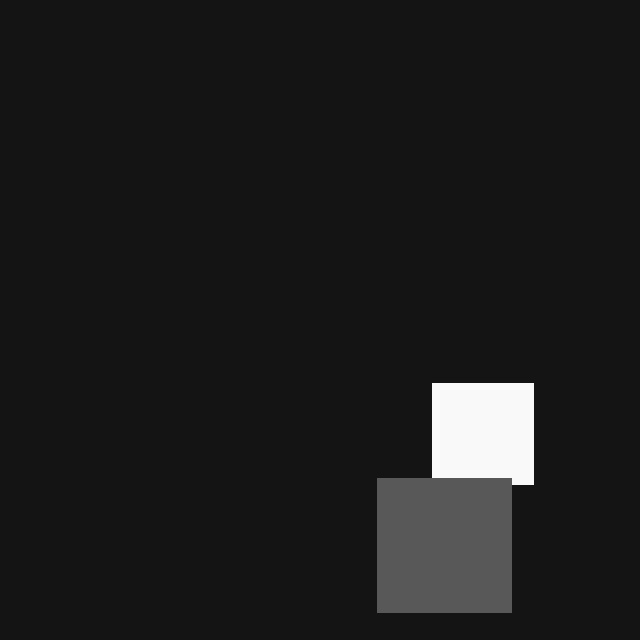square: (377, 478, 511, 612), (432, 383, 533, 484)
